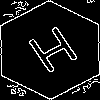H: (25, 25, 87, 83)
